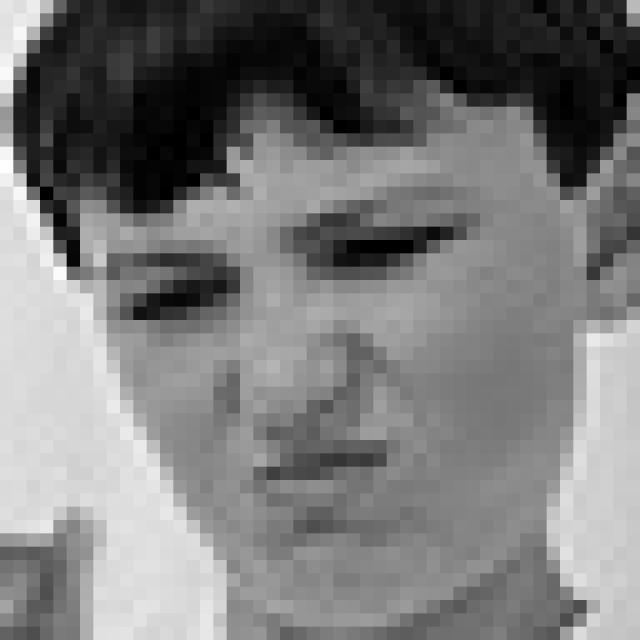disgust: (105, 178, 485, 546)
